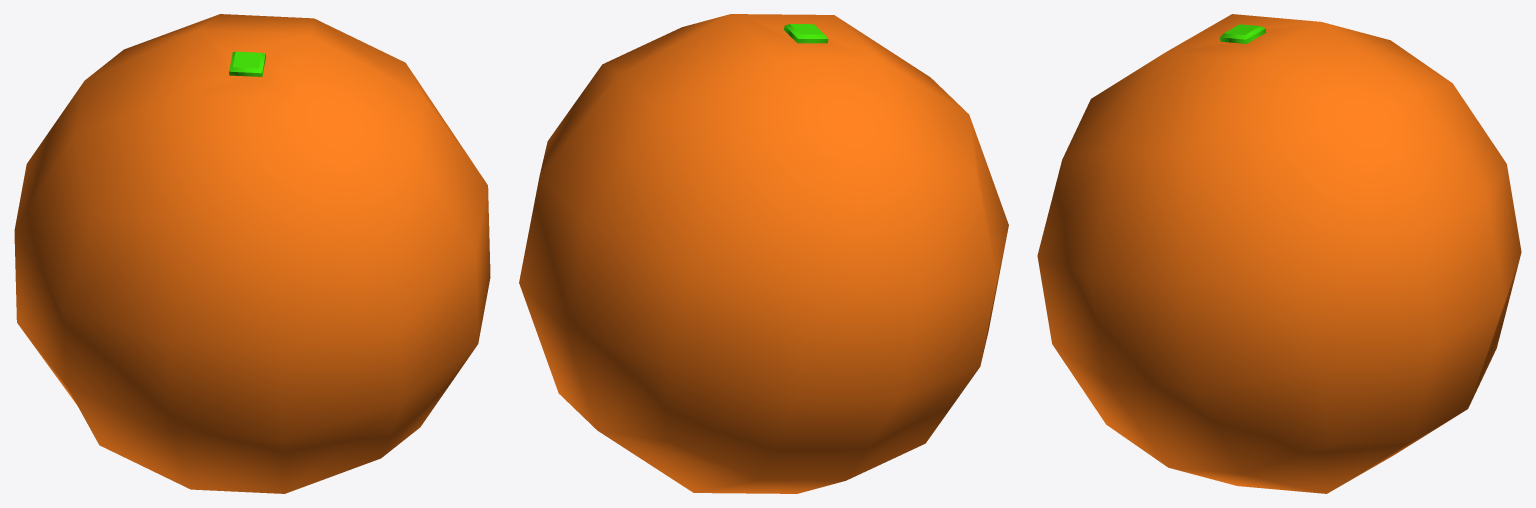
The model's file is Fridgerer_Oranges.glb.
3 views of the same model, side by side, from view 1: azimuth 30°, elevation 25°; view 2: azimuth 150°, elevation 25°; view 3: azimuth 270°, elevation 25° (orthographic).
Parts seen in each view (by area): view 1: Oranges; view 2: Oranges; view 3: Oranges.
Part boxes in pixels (x1,y1,x2,y2): Oranges: (14, 14, 490, 493); Oranges: (519, 14, 1008, 493); Oranges: (1037, 14, 1521, 493).
Size of the model in its own units: 0.0821 by 0.0811 by 0.0825.
